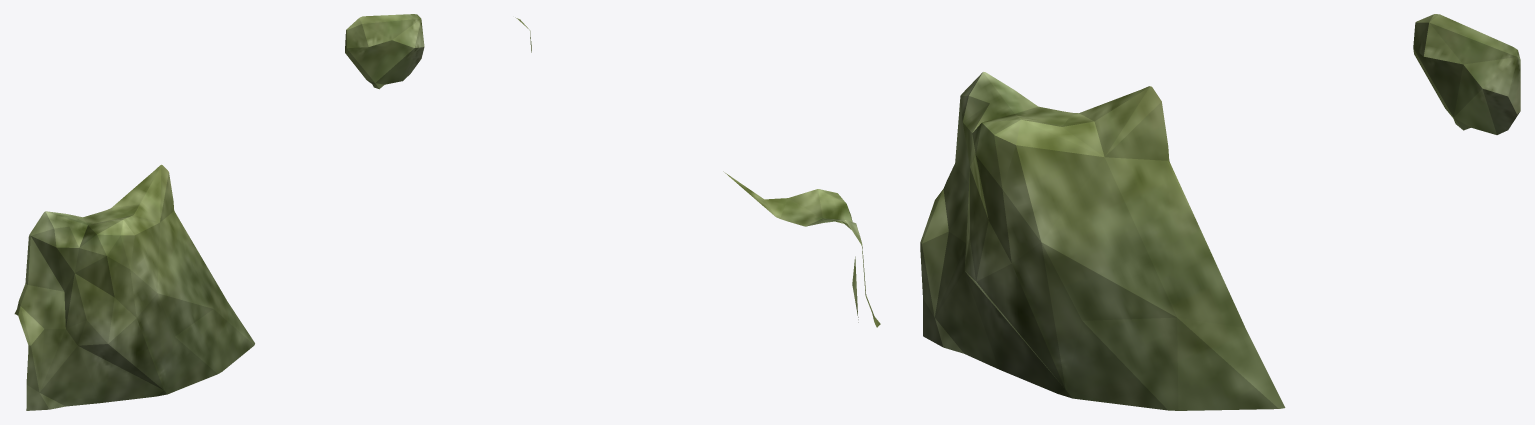
3 renders of one model, left to right at view 1: azimuth 30°, elevation 25°; view 2: azimuth 150°, elevation 25°; view 3: azimuth 330°, elevation 25°, orthographic. The views are drawn at different scales.
Bounding box in the file's own units: 2.14 × 1.52 × 0.3326.
1 material, 1 textured.
